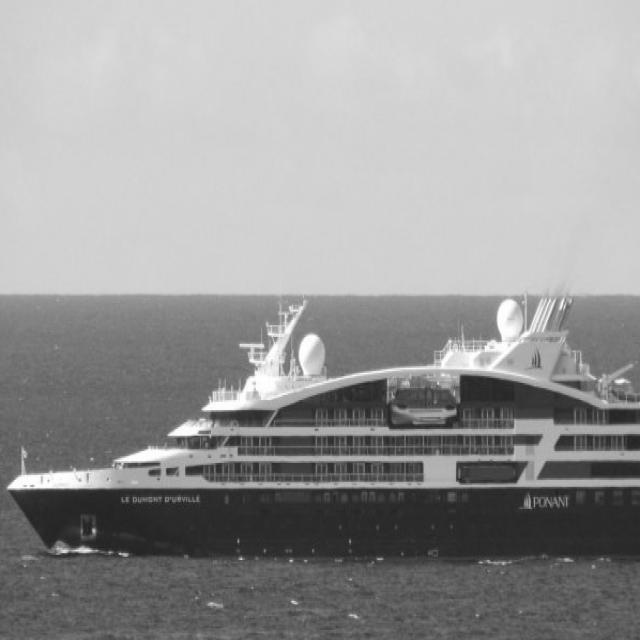cruises: (8, 292, 640, 581)
